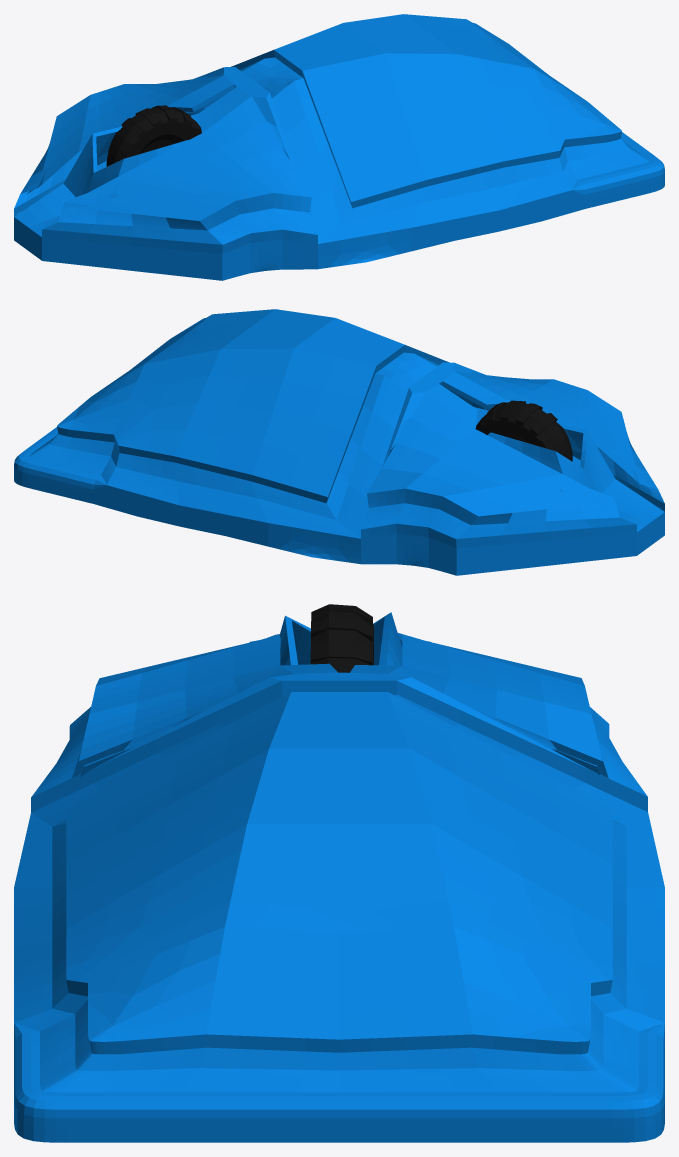
The model's file is mousy.fbx.
The picture shows the model from 3 angles, top to bottom: view 1: azimuth 30°, elevation 25°; view 2: azimuth 150°, elevation 25°; view 3: azimuth 270°, elevation 25°; orthographic projection. The views are drawn at different scales.
Visible parts, largest first — view 1: mouse.wheel; view 2: mouse.wheel; view 3: mouse.wheel.
Part boxes in pixels (x1,y1,x2,y2): mouse.wheel: [14, 14, 664, 280]; mouse.wheel: [14, 309, 664, 575]; mouse.wheel: [14, 604, 664, 1142].
Size of the model in its own units: 12.59 by 2.91 by 7.68.
